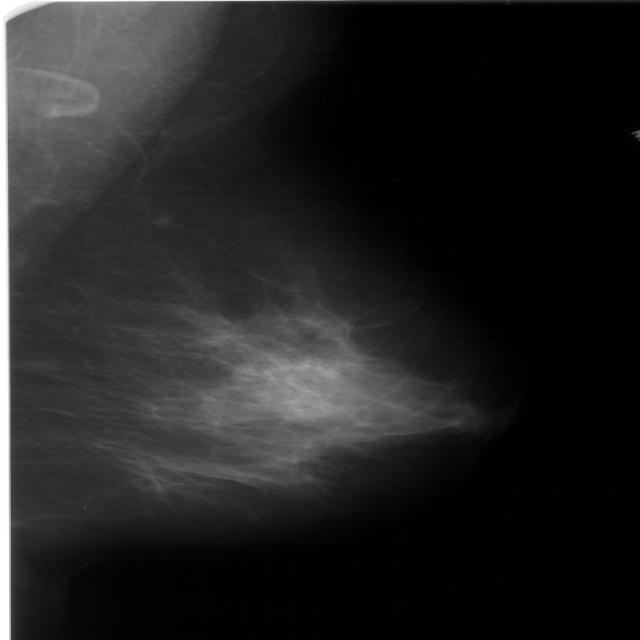tumour: (254, 358, 342, 392)
